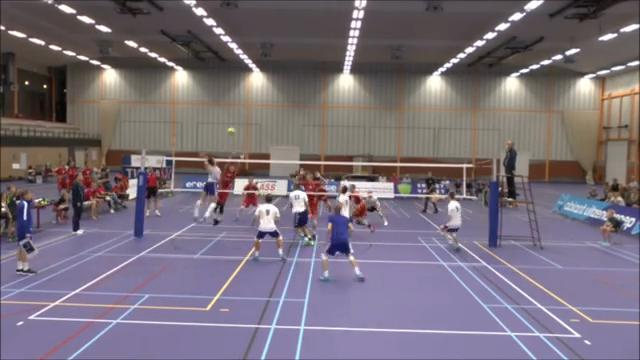attacco: (191, 150, 221, 227)
muro: (208, 156, 248, 229)
